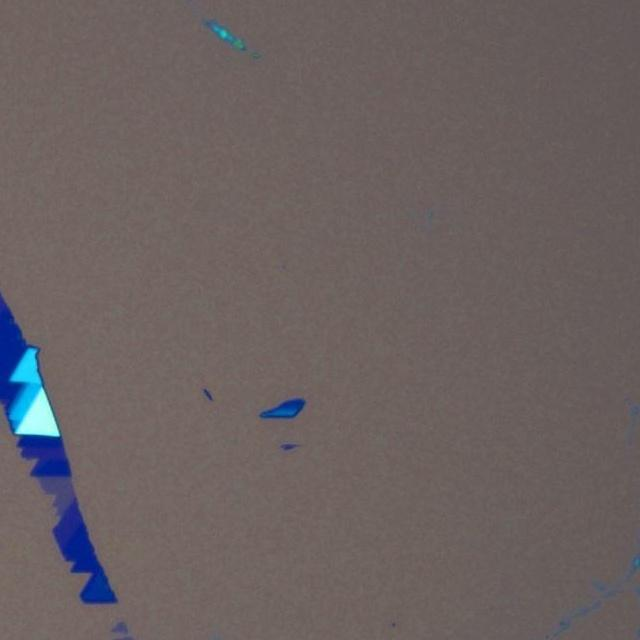monolayer-eWW4: (40, 474, 77, 519), (110, 618, 128, 640)
